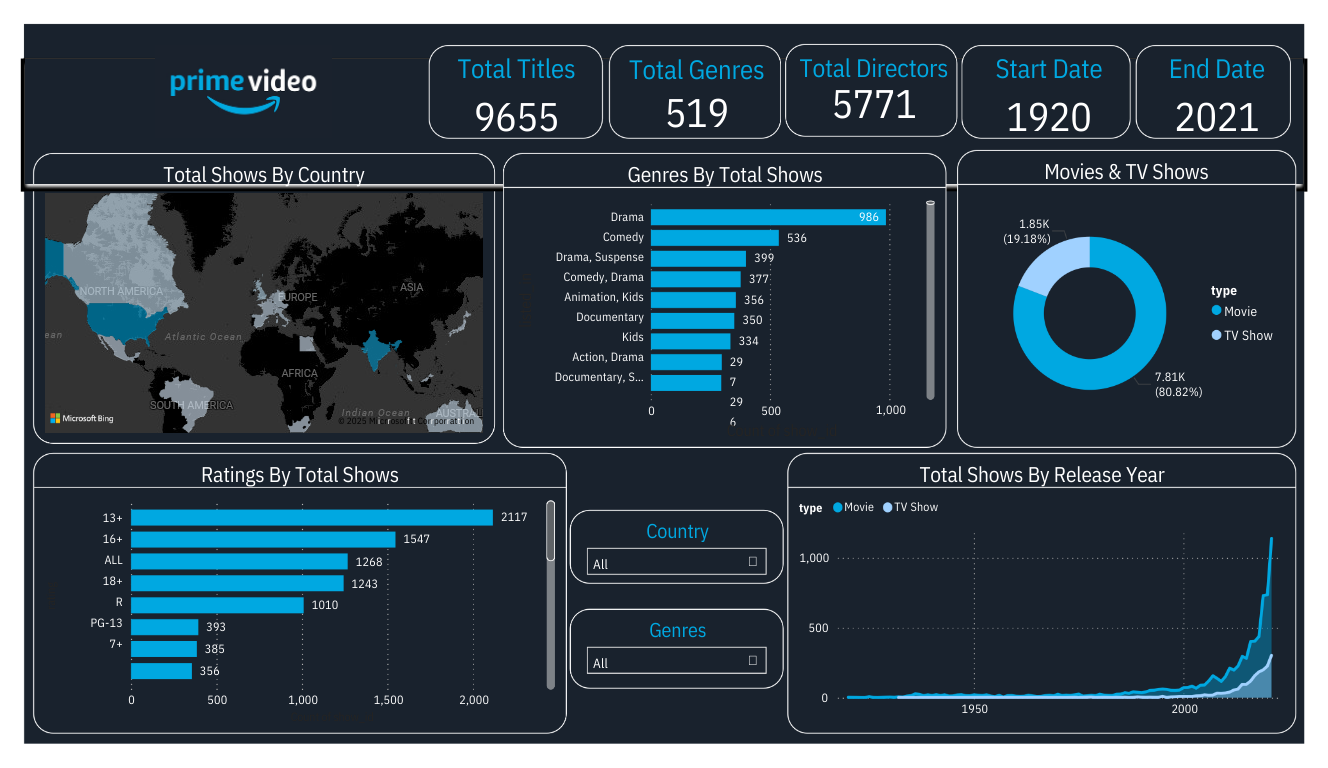

Layout of this report page (visuals, bound fields, positions):
{"tool":"powerbi","page":{"name":"Page 1","canvas":[1280,720],"ordinal":0},"visuals":[{"type":"filledMap","title":"Total Shows By Country","fields":{"Category":["amazon_prime_titles.country"]},"box":[11.3,419.5,470.6,290.6],"z":0},{"type":"donutChart","title":"Movies & TV Shows","fields":{"Category":["amazon_prime_titles.type"],"Y":["Count(amazon_prime_titles.show_id)"]},"box":[490.4,419.5,340.2,290.6],"z":1},{"type":"areaChart","title":"Total Shows By Release Year","fields":{"Category":["amazon_prime_titles.release_year"],"Series":["amazon_prime_titles.type"],"Y":["Count(amazon_prime_titles.show_id)"]},"box":[839.1,419.5,429.4,290.6],"z":2},{"type":"image","box":[486.1,114.8,348.7,290.6],"z":3},{"type":"barChart","title":"Ratings By Total Shows","fields":{"Category":["amazon_prime_titles.rating"],"Y":["CountNonNull(amazon_prime_titles.show_id)"]},"box":[11.3,114.8,470.6,290.6],"z":4},{"type":"barChart","title":"Genres By Total Shows","fields":{"Y":["CountNonNull(amazon_prime_titles.show_id)"],"Category":["amazon_prime_titles.listed_in"]},"box":[839.1,114.8,440.8,304.7],"z":5},{"type":"card","title":"Total Titles","fields":{"Values":["Count(amazon_prime_titles.title)"]},"box":[60.9,9.9,175.7,93.5],"z":6},{"type":"card","title":"Total Ratings","fields":{"Values":["Count(amazon_prime_titles.rating)"]},"box":[256.5,9.9,192.8,93.5],"z":7},{"type":"card","title":"Total Genres","fields":{"Values":["Count(amazon_prime_titles.listed_in)"]},"box":[470.6,9.9,181.4,93.5],"z":8},{"type":"card","title":"Total Directors","fields":{"Values":["Count(amazon_prime_titles.director)"]},"box":[676.1,9.9,184.3,93.5],"z":9},{"type":"card","title":"Start Date","fields":{"Values":["Min(amazon_prime_titles.release_year)"]},"box":[883,9.9,170.1,93.5],"z":10},{"type":"card","title":"End Date","fields":{"Values":["Max(amazon_prime_titles.release_year)"]},"box":[1071.5,9.9,177.2,93.5],"z":11}]}

Visuals, with their boxes in screenshot pixels (x1, y1, x2, y2), scaled from the page's 1280x720 canvas onto the 1328x768 screenshot:
"Total Shows By Country" filledMap: [12, 447, 500, 757]
"Movies & TV Shows" donutChart: [509, 447, 862, 757]
"Total Shows By Release Year" areaChart: [871, 447, 1316, 757]
image: [504, 122, 866, 432]
"Ratings By Total Shows" barChart: [12, 122, 500, 432]
"Genres By Total Shows" barChart: [871, 122, 1327, 447]
"Total Titles" card: [63, 11, 245, 110]
"Total Ratings" card: [266, 11, 466, 110]
"Total Genres" card: [488, 11, 676, 110]
"Total Directors" card: [701, 11, 893, 110]
"Start Date" card: [916, 11, 1093, 110]
"End Date" card: [1112, 11, 1296, 110]
